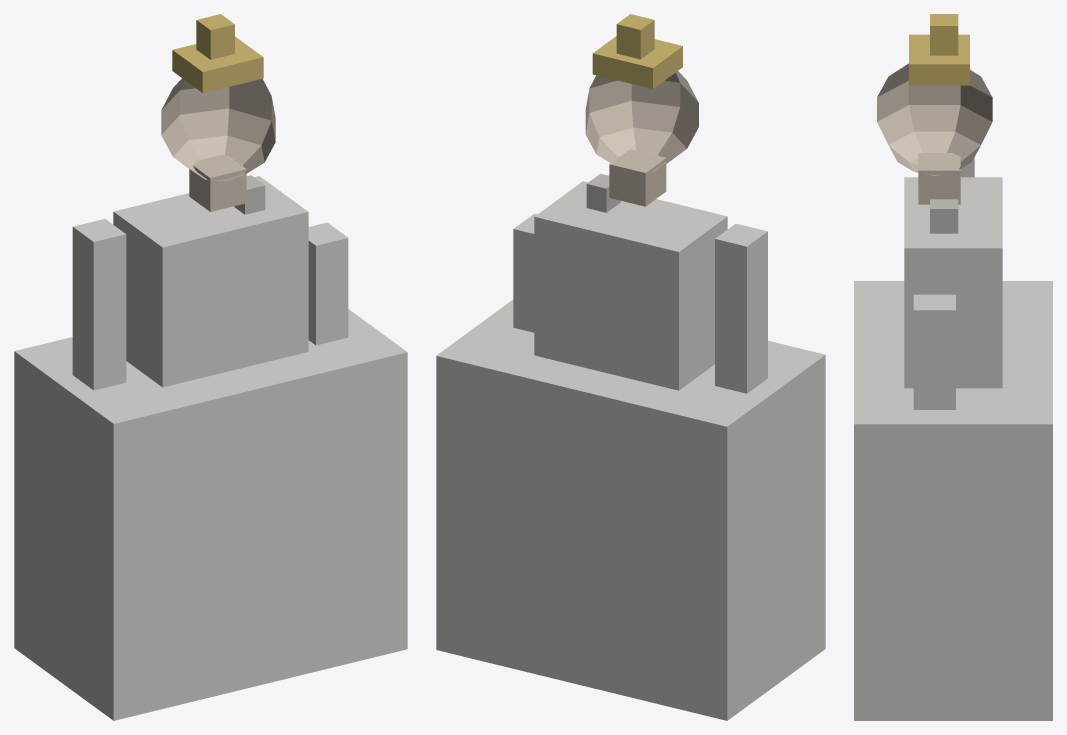
Rendered from wilhelmina_statue.glb.
3 views of the same model, side by side, from view 1: azimuth 30°, elevation 25°; view 2: azimuth 150°, elevation 25°; view 3: azimuth 270°, elevation 25° (orthographic).
Visible parts, largest first — view 1: wilhelmina_statue_lod0; view 2: wilhelmina_statue_lod0; view 3: wilhelmina_statue_lod0.
Boxes of the visible parts, <box> form: wilhelmina_statue_lod0: <box>14,14,407,720</box>; wilhelmina_statue_lod0: <box>436,14,825,720</box>; wilhelmina_statue_lod0: <box>854,14,1052,720</box>.
Size of what is drawn, in the model's own units: 1.45 by 2.97 by 0.85.
